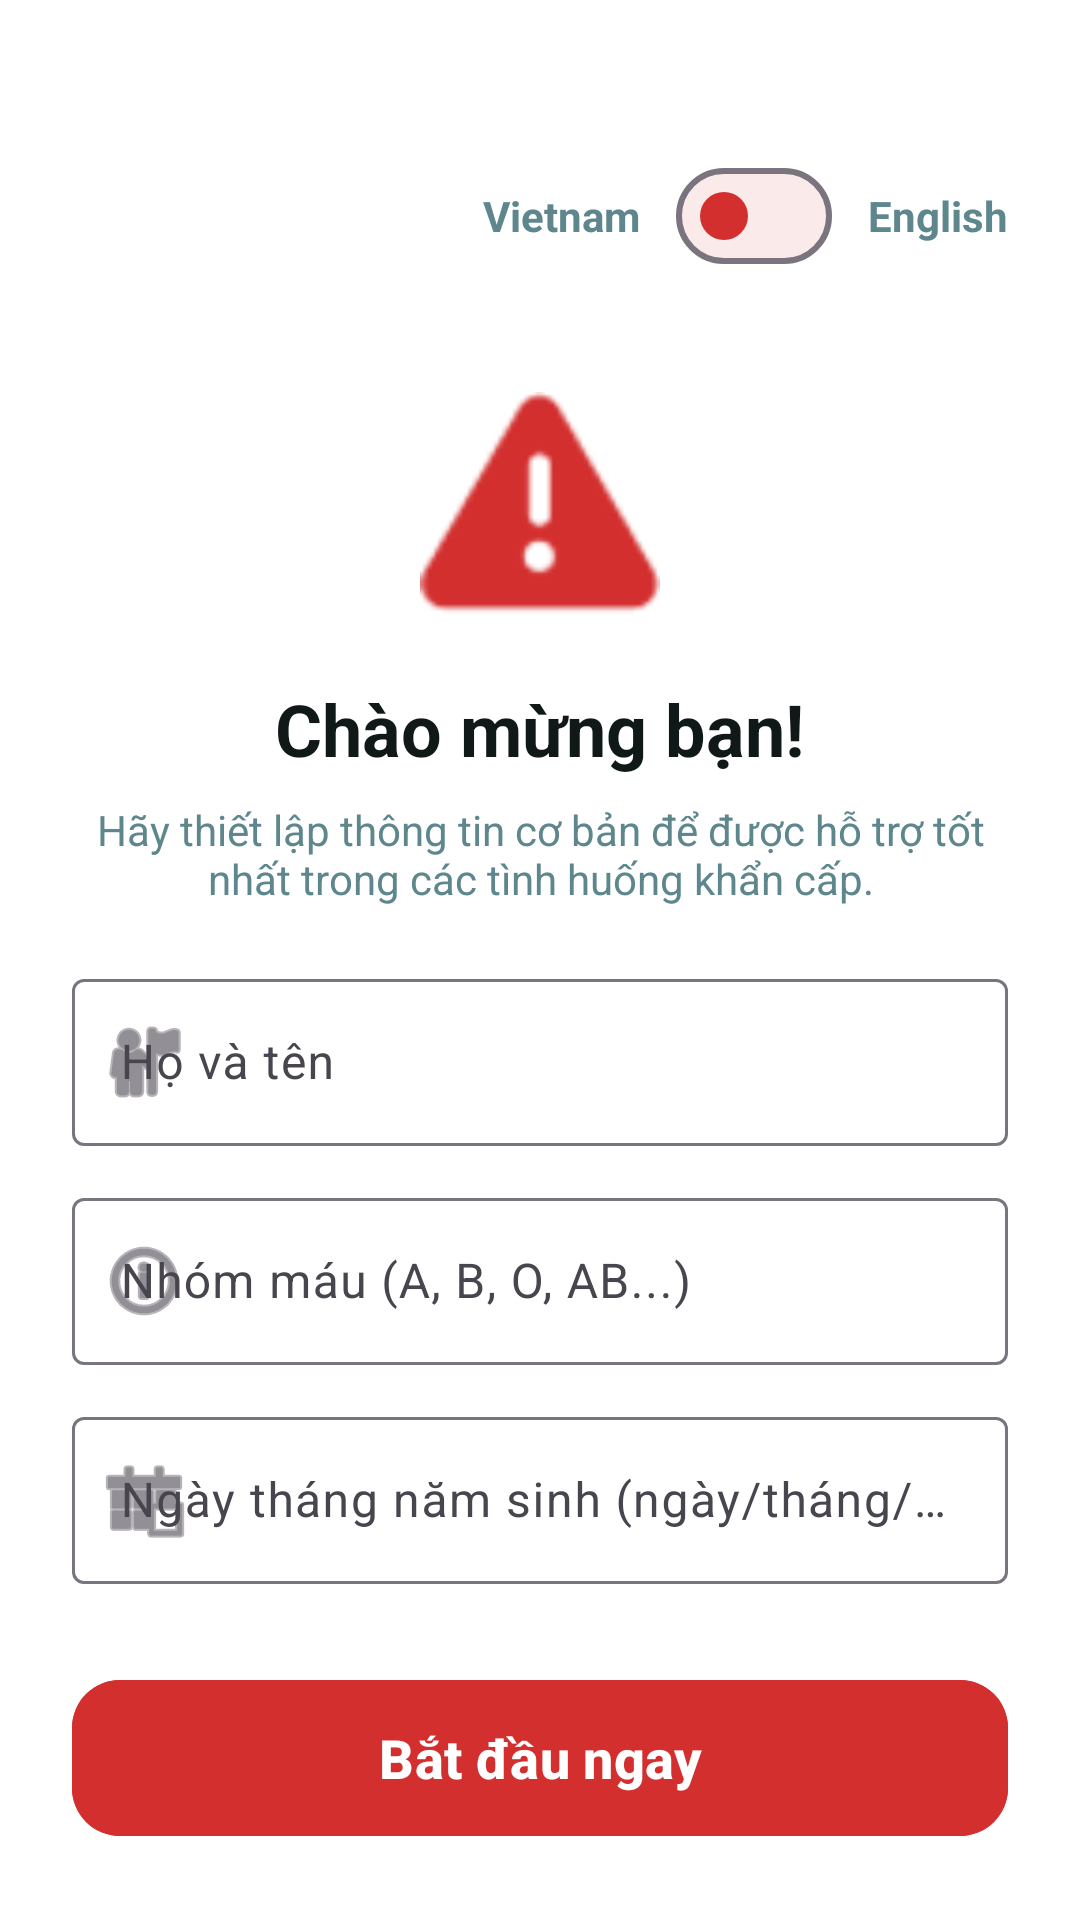

Icons on this 1080×1920 Android screen, each with its box as (x1, y1, x2, y2):
alert: (420, 392, 660, 611)
